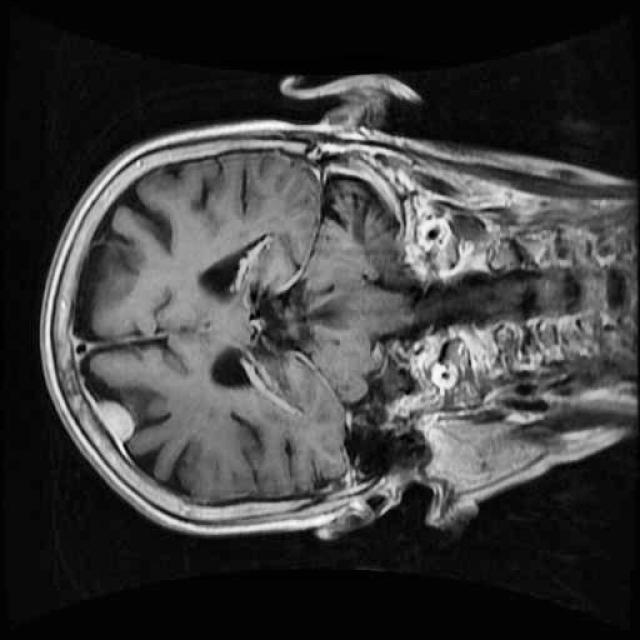Tumor: (79, 385, 151, 466)
